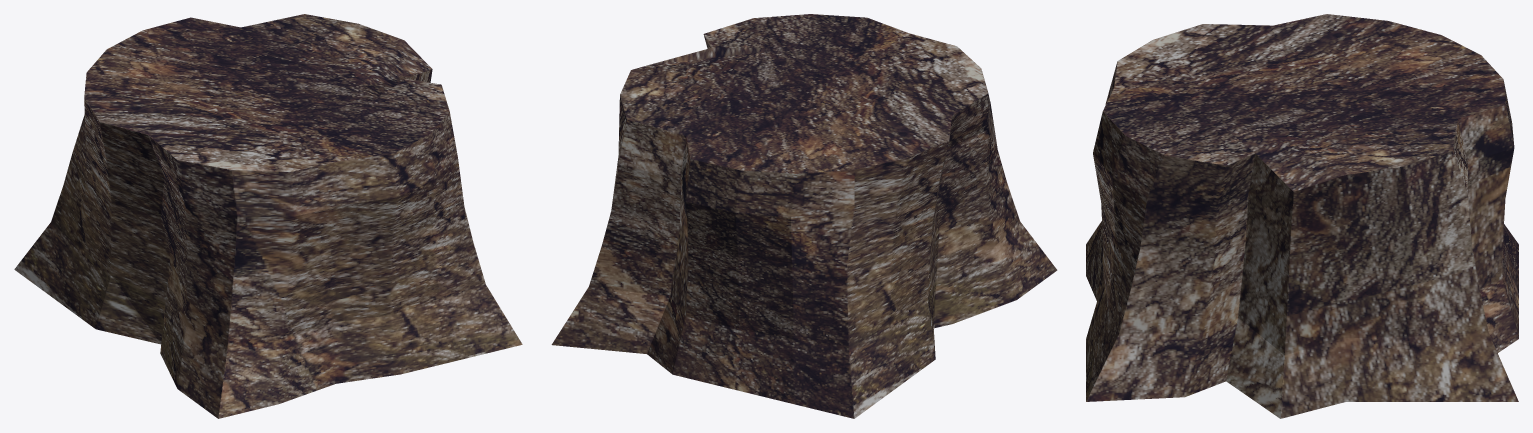
Rendered from tunggul_kayu.fbx.
The picture shows the model from 3 angles, left to right: view 1: azimuth 30°, elevation 25°; view 2: azimuth 150°, elevation 25°; view 3: azimuth 270°, elevation 25°; orthographic projection. The views are drawn at different scales.
Parts seen in each view (by area): view 1: Cube; view 2: Cube; view 3: Cube.
Part boxes in pixels (x1,y1,x2,y2): Cube: [14, 14, 522, 418]; Cube: [551, 14, 1057, 418]; Cube: [1086, 14, 1518, 418].
Bounding box in the file's own units: 309 × 214 × 344.
